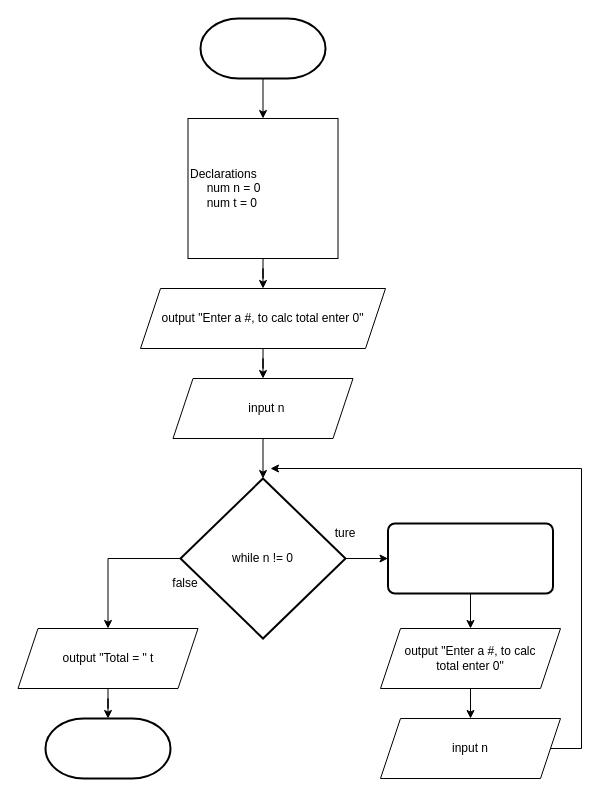
This 607x796 diagram has some shape labels left out. Each missing label, with the centre of its shape:
"end" belongs at [107,748].
"start" belongs at [262,48].
"t = t + n" belongs at [470,558].
